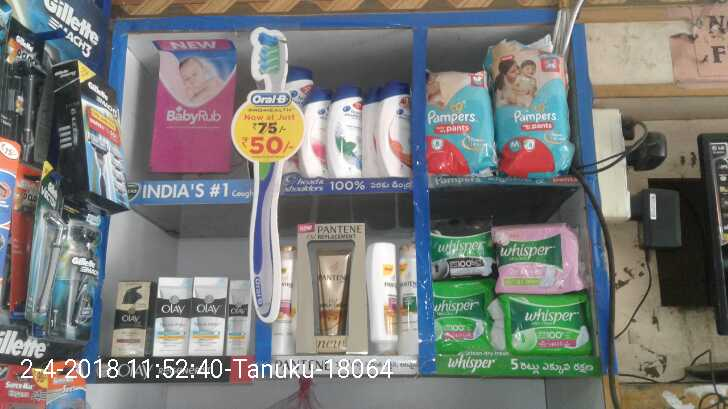gillete: (51, 58, 131, 208), (2, 22, 44, 156), (61, 224, 90, 343), (37, 205, 61, 320)
